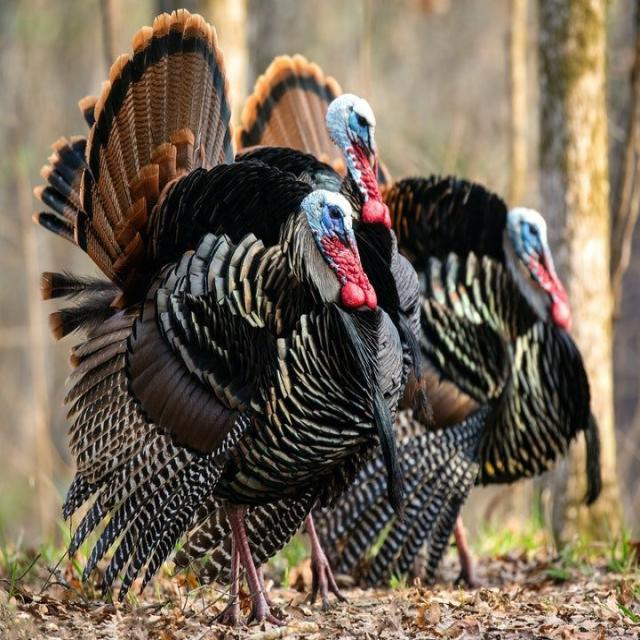Turkey: (36, 2, 401, 632), (386, 157, 610, 574), (291, 75, 413, 294)
